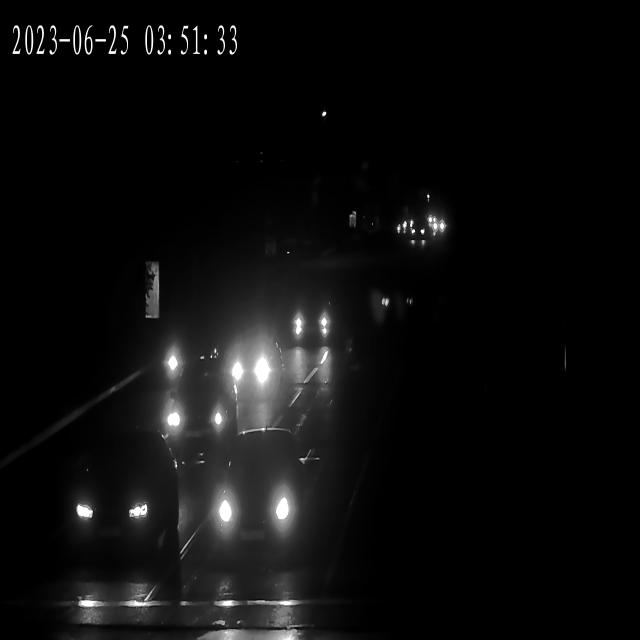Car: (67, 450, 179, 557), (202, 442, 304, 554), (158, 318, 224, 388), (216, 334, 282, 398), (162, 386, 234, 444), (289, 300, 335, 349), (375, 278, 416, 319), (408, 229, 428, 245), (431, 222, 450, 238), (424, 215, 442, 230), (392, 221, 412, 234), (428, 220, 446, 234)
